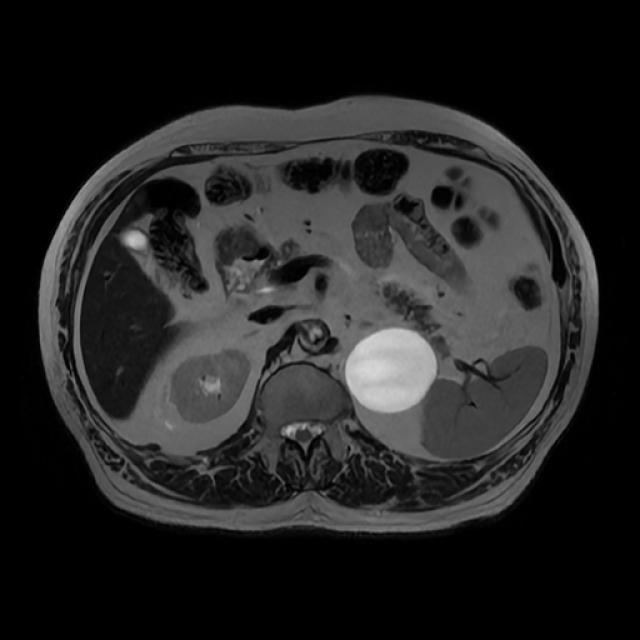sag: (169, 350, 252, 423)
sol: (346, 326, 440, 412)
